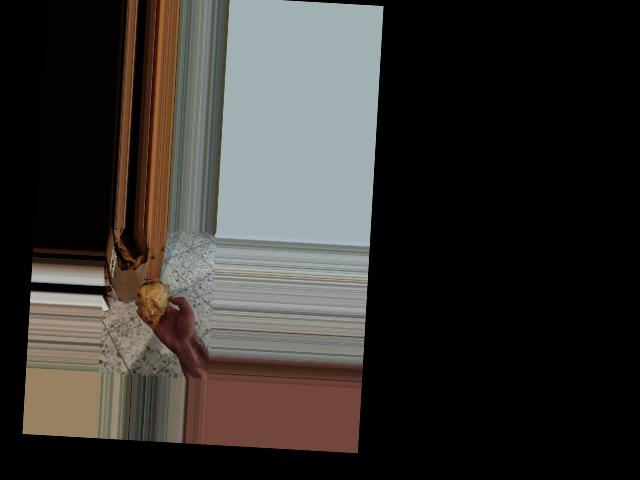onion: (134, 276, 172, 329)
